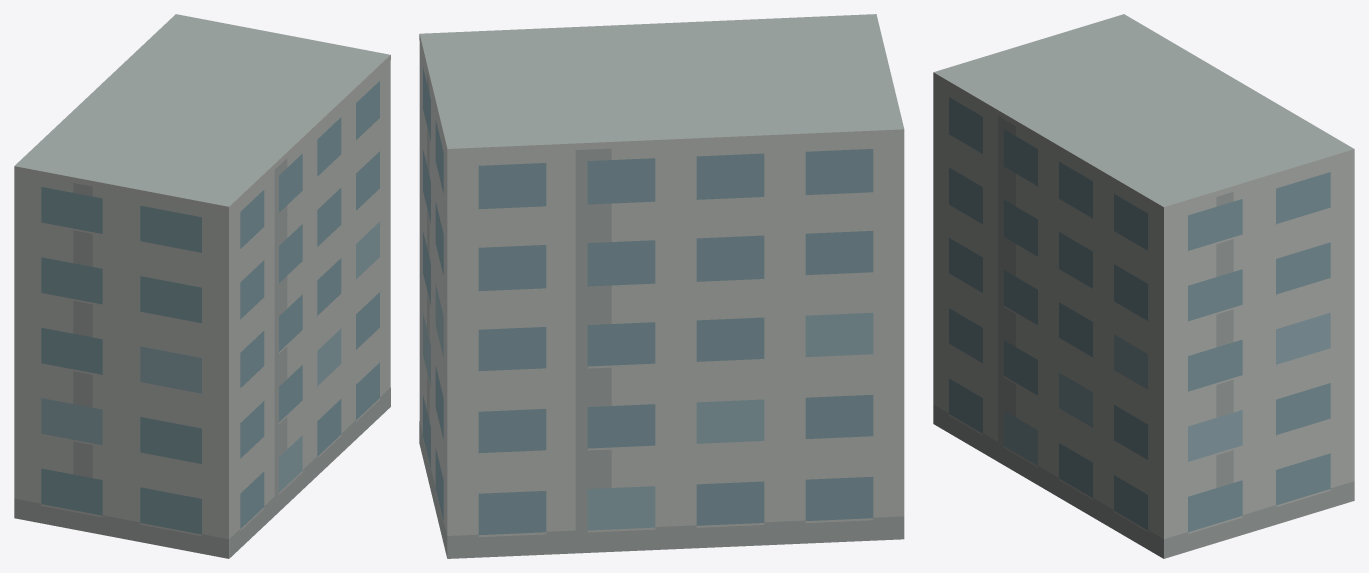
File: survey-upis-32781201.glb
3 renders of one model, left to right at view 1: azimuth 30°, elevation 25°; view 2: azimuth 150°, elevation 25°; view 3: azimuth 270°, elevation 25°, orthographic. The views are drawn at different scales.
Parts seen in each view (by area): view 1: survey-upis-32781201.tmp; view 2: survey-upis-32781201.tmp; view 3: survey-upis-32781201.tmp.
Part boxes in pixels (box(x1,y1,x2,y2)): survey-upis-32781201.tmp: box(14, 14, 390, 558); survey-upis-32781201.tmp: box(419, 14, 904, 558); survey-upis-32781201.tmp: box(933, 14, 1354, 558).
Bounding box in the file's own units: 17.8 × 15.1 × 16.4.
